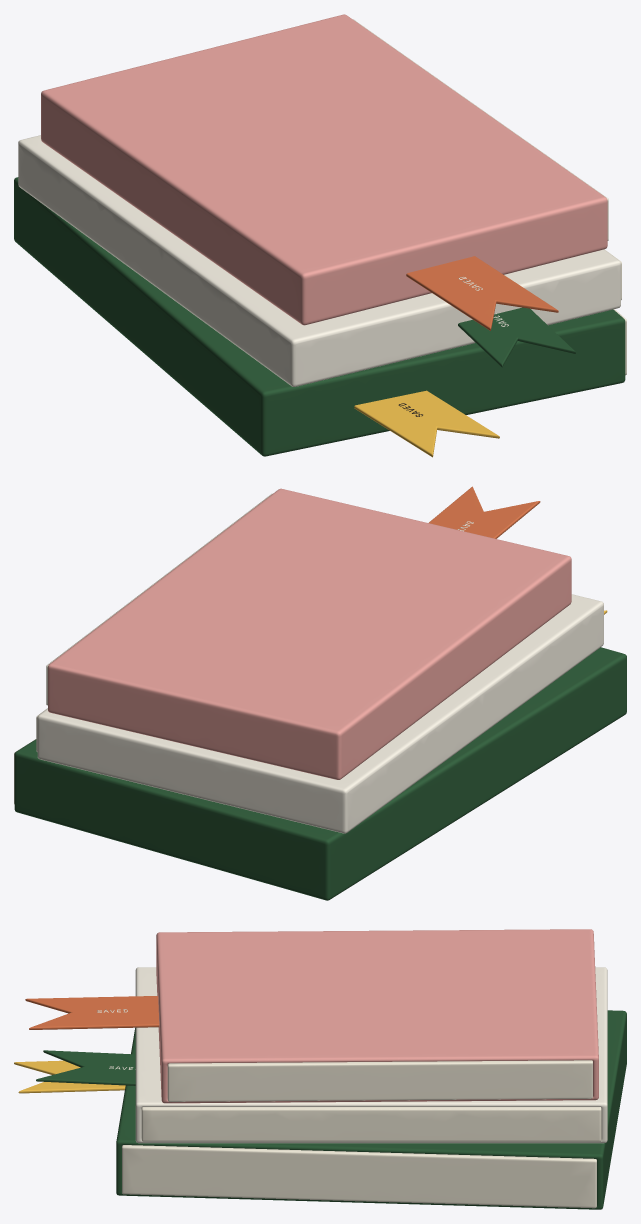
Rendered from saved.glb.
3 renders of one model, top to bottom at view 1: azimuth 30°, elevation 25°; view 2: azimuth 150°, elevation 25°; view 3: azimuth 270°, elevation 25°, orthographic. The views are drawn at different scales.
Visible parts, largest first — view 1: book0, saved-sun-body, pages0; view 2: book0, saved-sun-body, pages0; view 3: book0, pages0, saved-sun-body.
Boxes of the visible parts, left/top/right/bottom form: book0: left=14, top=14, right=625, bottom=456; saved-sun-body: left=354, top=256, right=575, bottom=457; pages0: left=353, top=19, right=626, bottom=375; book0: left=14, top=488, right=626, bottom=900; saved-sun-body: left=429, top=486, right=607, bottom=614; pages0: left=14, top=493, right=272, bottom=804; book0: left=116, top=929, right=626, bottom=1209; pages0: left=122, top=1060, right=601, bottom=1208; saved-sun-body: left=14, top=996, right=159, bottom=1093.
Size of the model in its own units: 0.1879 by 0.076 by 0.3012.
4 materials, 4 textured.
